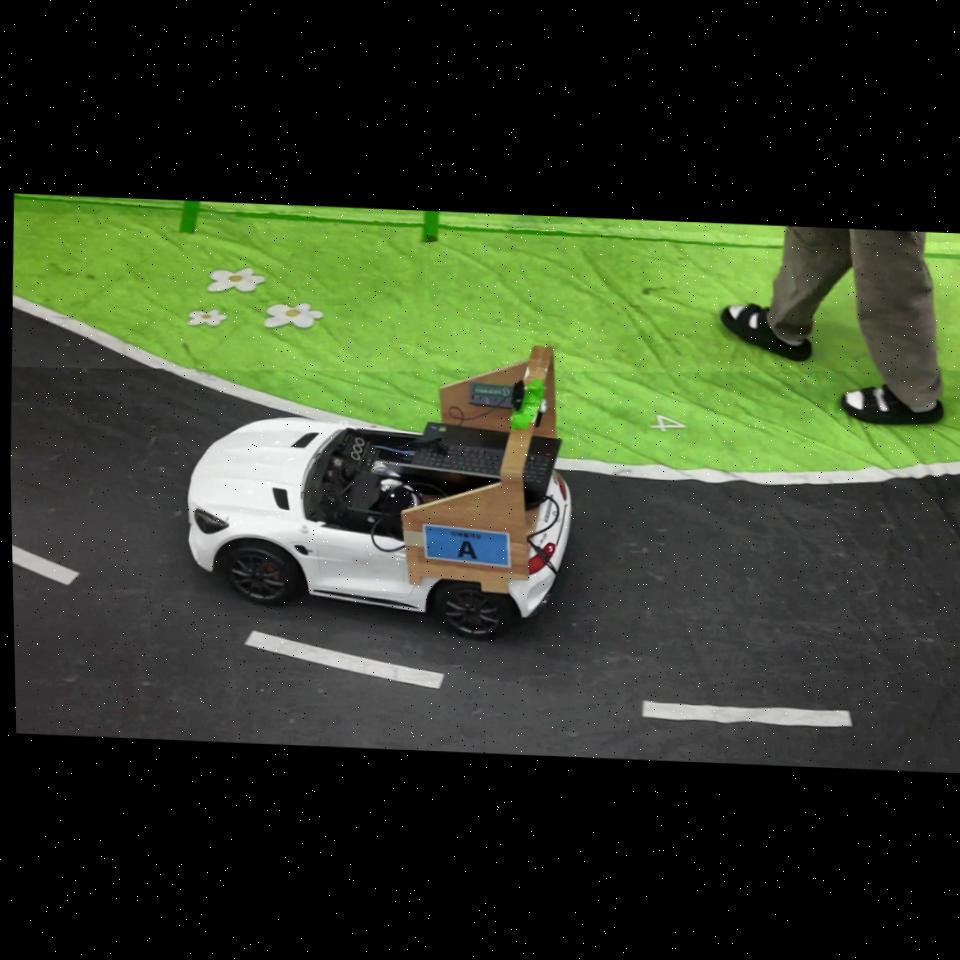broken_line: (244, 630, 445, 690), (641, 700, 853, 727), (12, 544, 81, 585)
